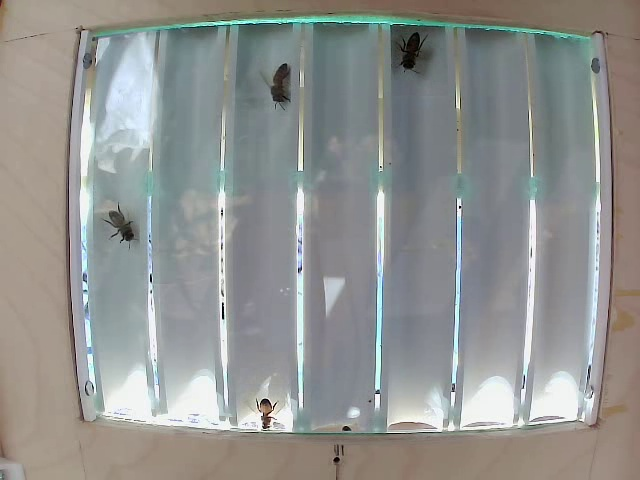bee: (265, 58, 299, 116), (385, 27, 419, 78), (93, 206, 133, 245), (253, 396, 275, 421)
